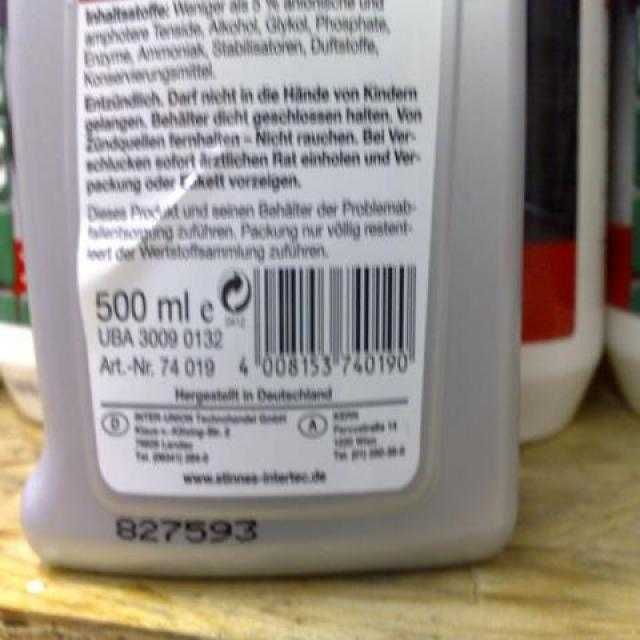Barcode: (237, 260, 426, 383)
